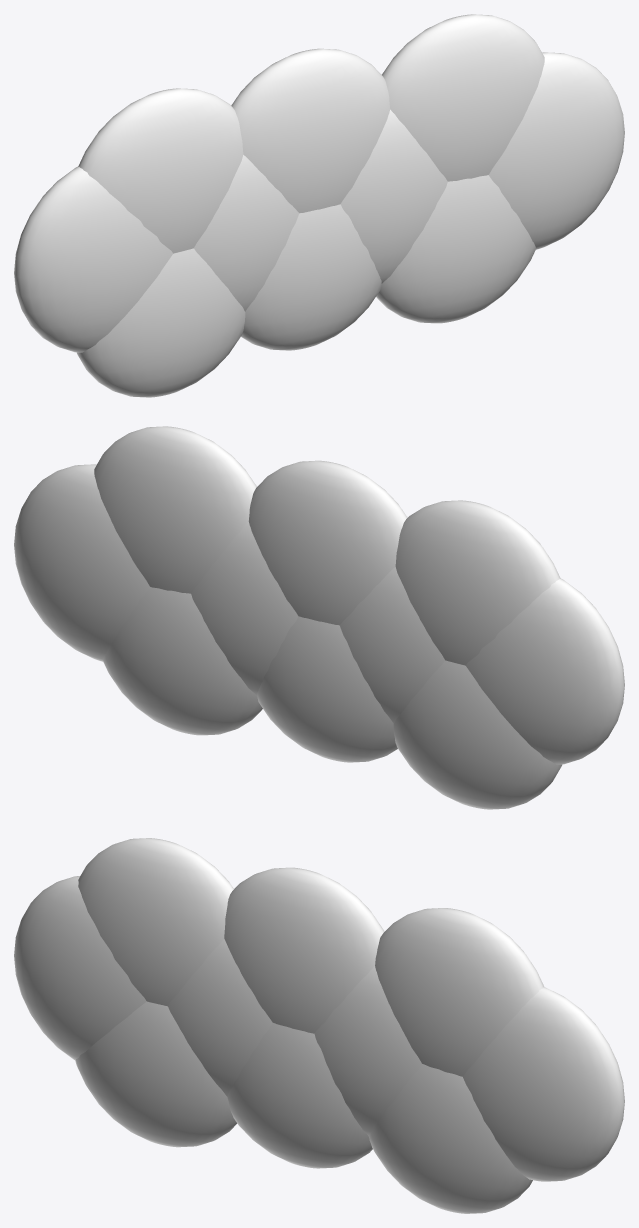
Rendered from cloud.obj.
3 views of the same model, one above another, from view 1: azimuth 30°, elevation 25°; view 2: azimuth 150°, elevation 25°; view 3: azimuth 330°, elevation 25° (orthographic).
Parts seen in each view (by area): view 1: 球.005; view 2: 球.005; view 3: 球.005.
Boxes of the visible parts, <box> form: 球.005: <box>14,14,624,397</box>; 球.005: <box>14,426,624,809</box>; 球.005: <box>14,838,624,1213</box>.
Size of the model in its own units: 13.45 by 6.51 by 1.23.
Materials: 1 (1 with a texture image).
